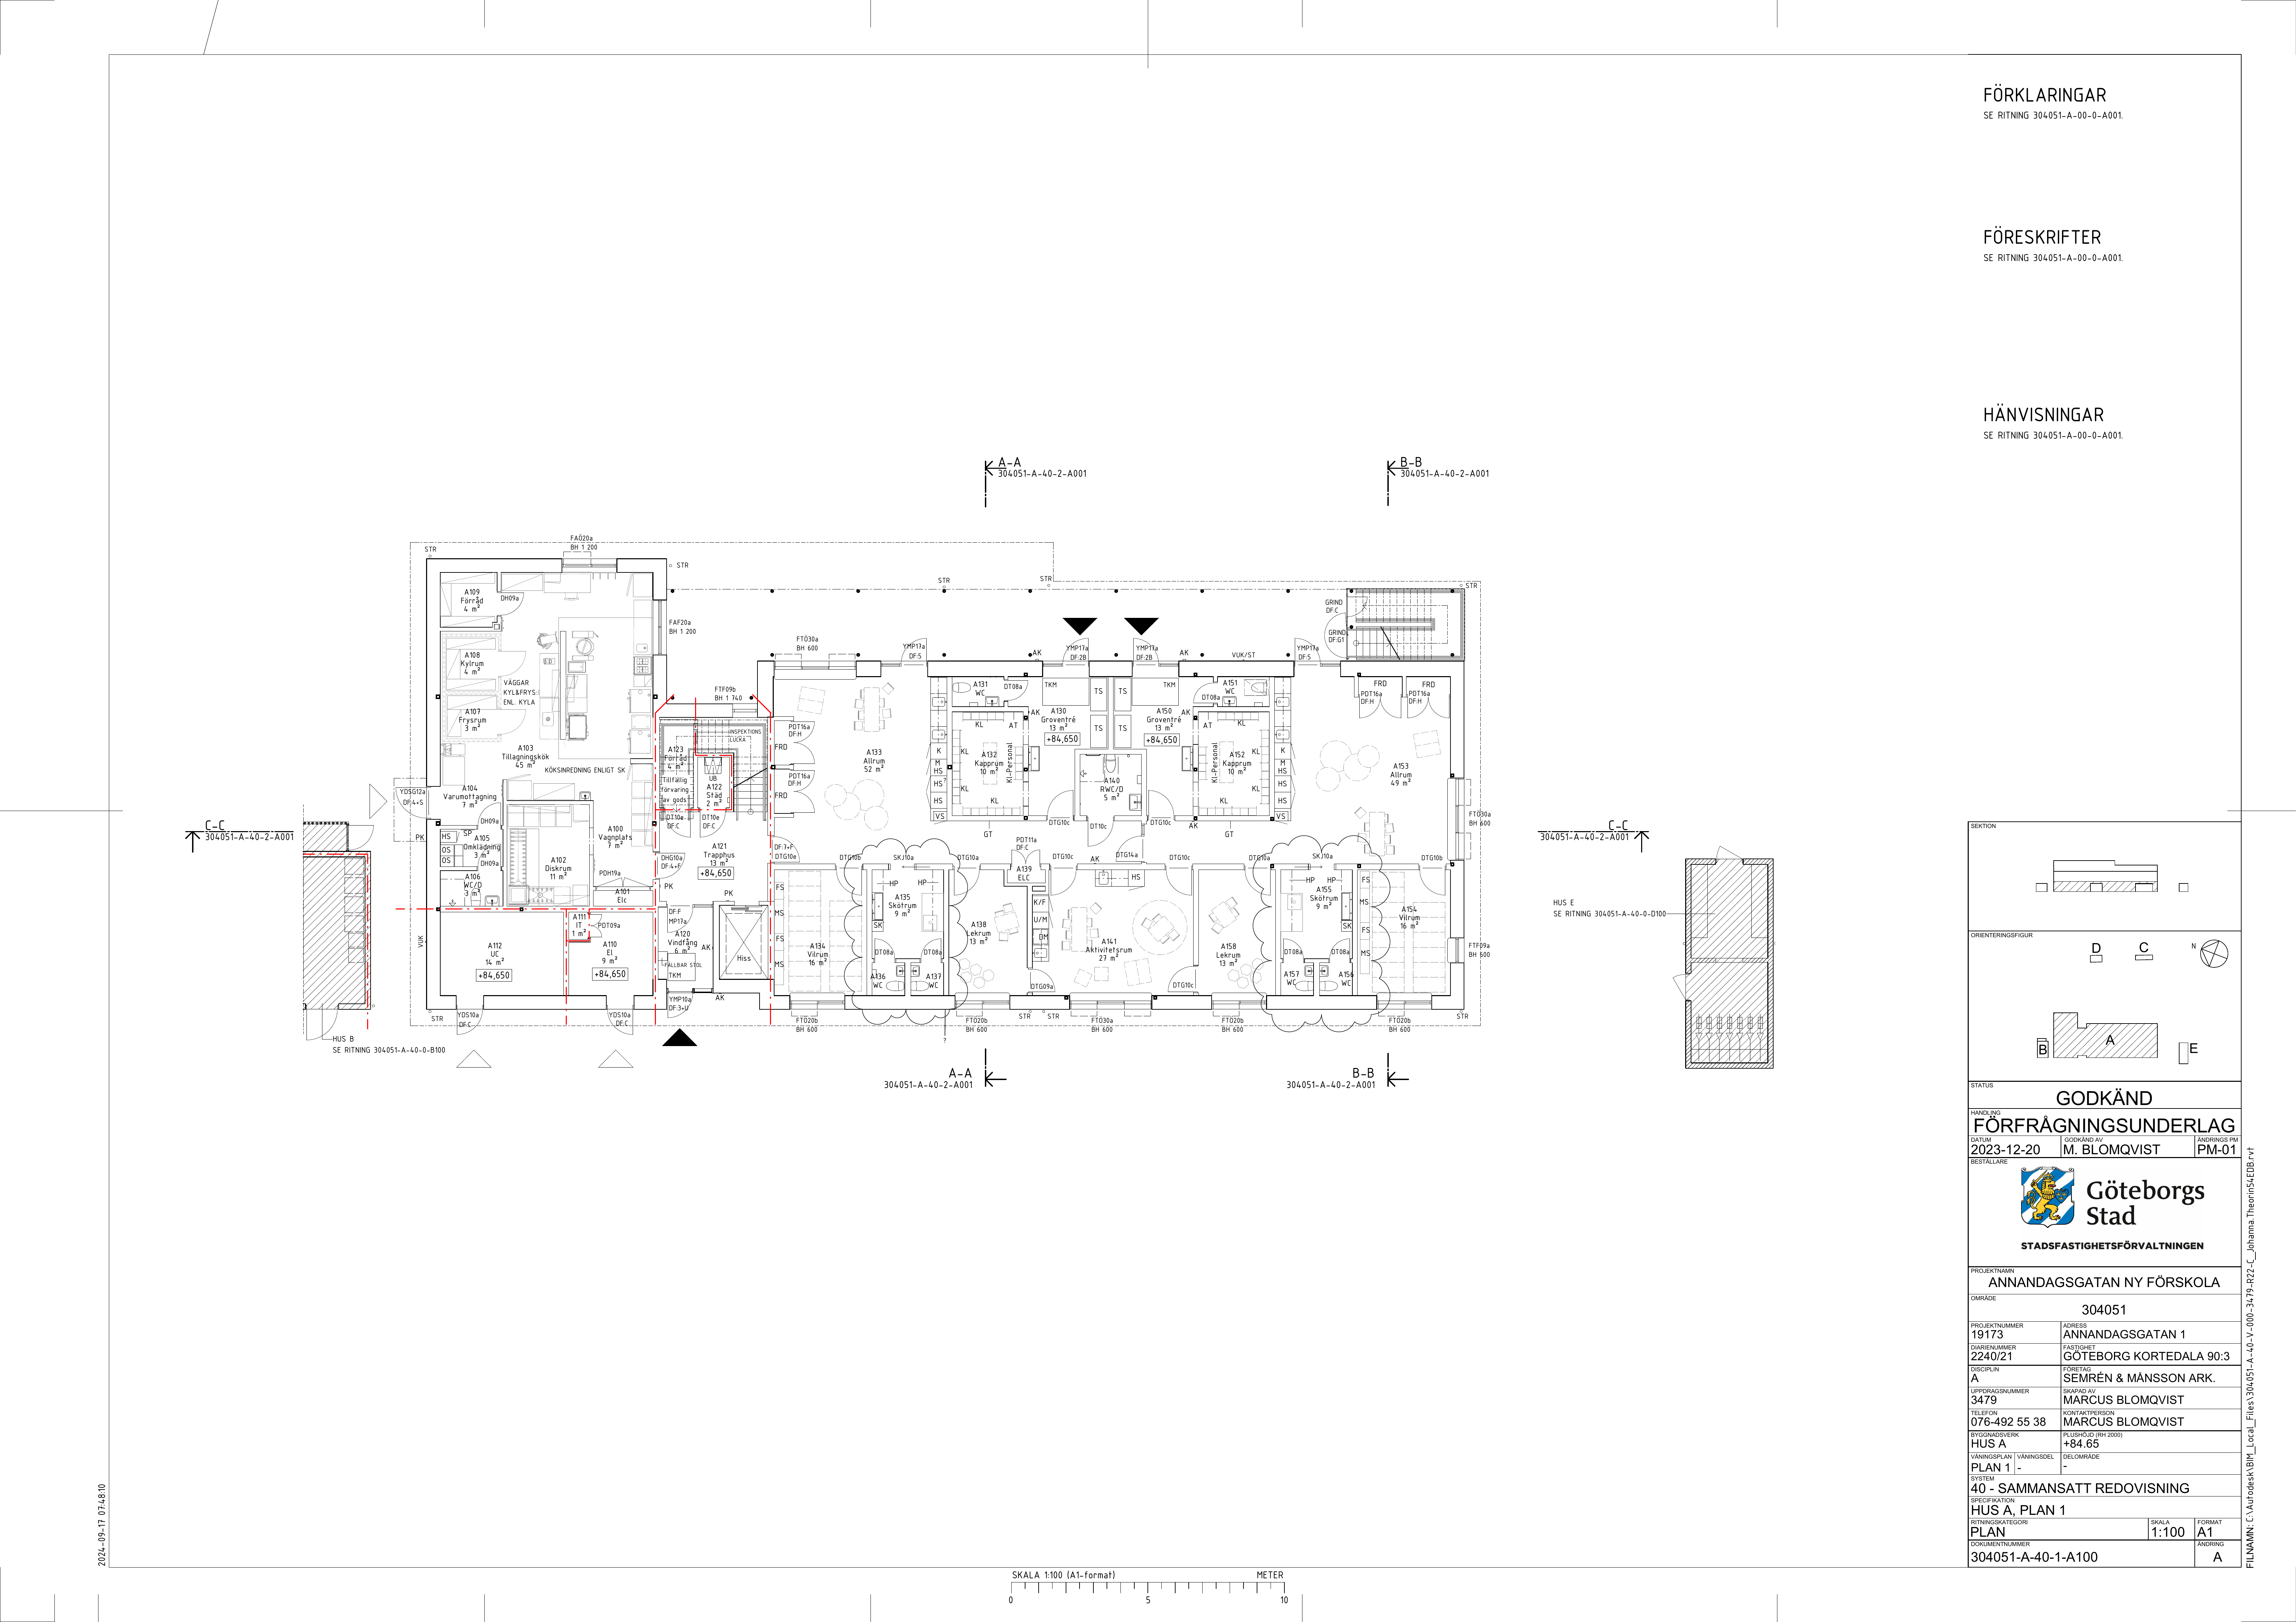window: (1065, 987, 1155, 1039), (1446, 769, 1490, 867), (771, 634, 860, 681), (1197, 987, 1276, 1036), (785, 992, 862, 1034), (1369, 990, 1443, 1034), (951, 988, 1015, 1036), (651, 595, 697, 660), (558, 535, 625, 574), (713, 681, 764, 721), (1445, 932, 1496, 965)
